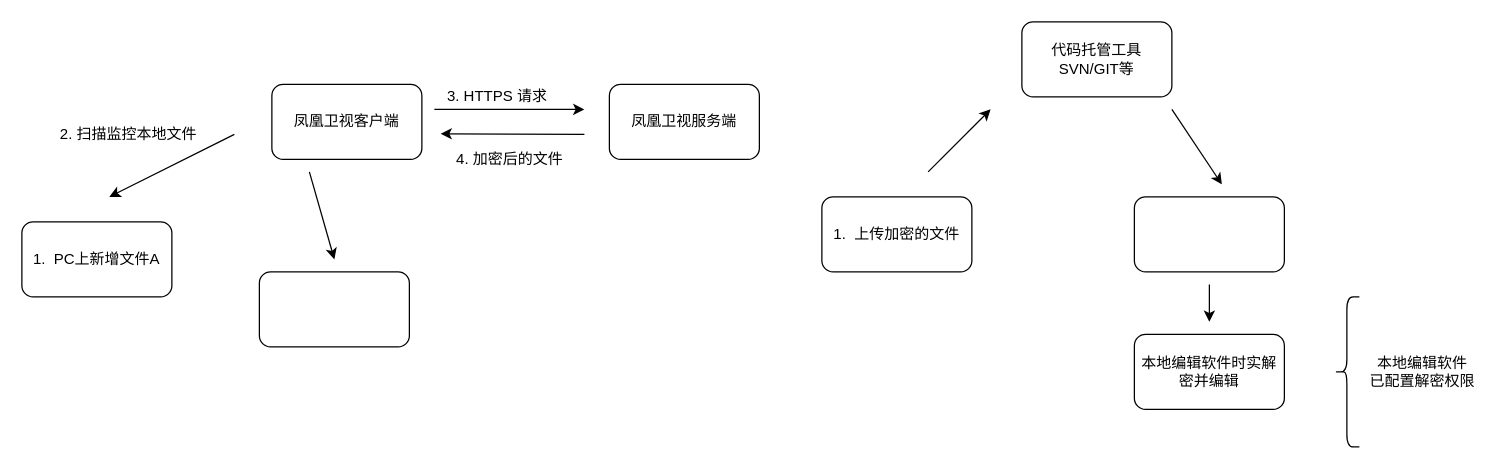
Image size: 1506x469. Some labels were removed from this diagram. The box of each missing label's shape, as (x1, y1, x2, y2) in pixels:
2. 下载加密的文件: (1133, 196, 1284, 272)
5. PC上新增文件被加密: (258, 271, 409, 347)
